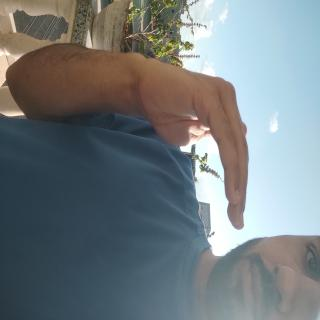HAA: (37, 87, 176, 253)
